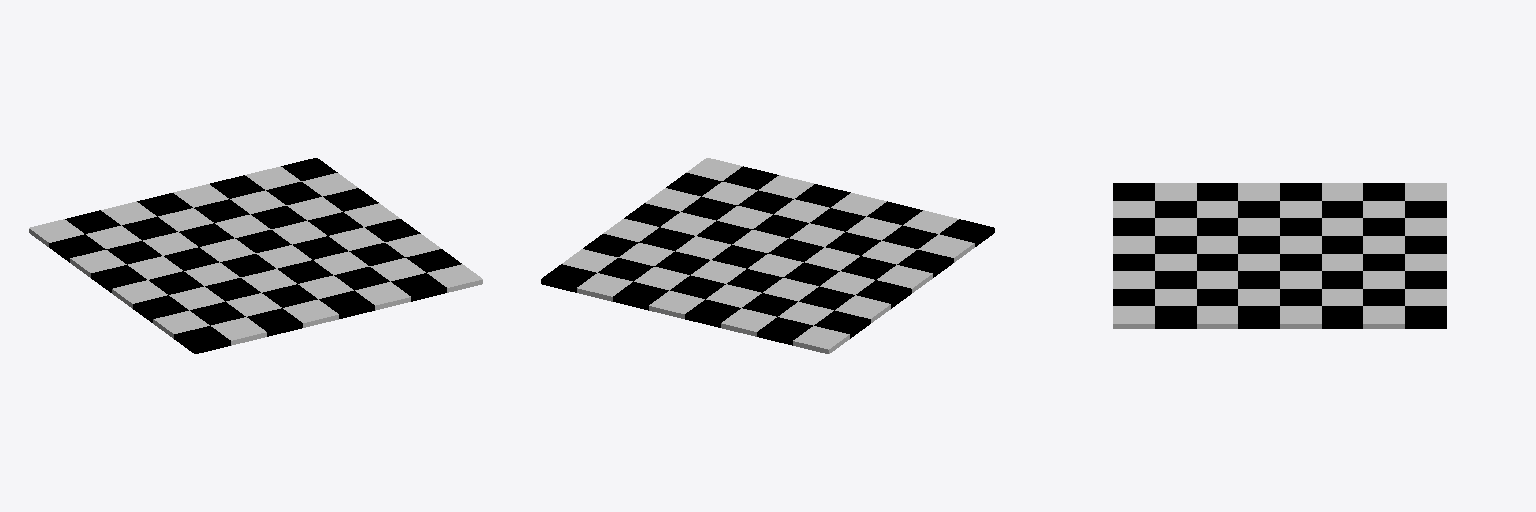
File: board.obj
The picture shows the model from 3 angles: view 1: azimuth 30°, elevation 25°; view 2: azimuth 150°, elevation 25°; view 3: azimuth 270°, elevation 25°; orthographic projection.
Visible parts, largest first — view 1: Chess_Board.001_Chess_Board_Me.001; view 2: Chess_Board.001_Chess_Board_Me.001; view 3: Chess_Board.001_Chess_Board_Me.001.
Boxes of the visible parts, x1=… form: Chess_Board.001_Chess_Board_Me.001: x1=29, y1=158, x2=482, y2=353; Chess_Board.001_Chess_Board_Me.001: x1=541, y1=158, x2=994, y2=353; Chess_Board.001_Chess_Board_Me.001: x1=1113, y1=183, x2=1446, y2=328.
Size of the model in its own units: 16 by 0.2582 by 16.